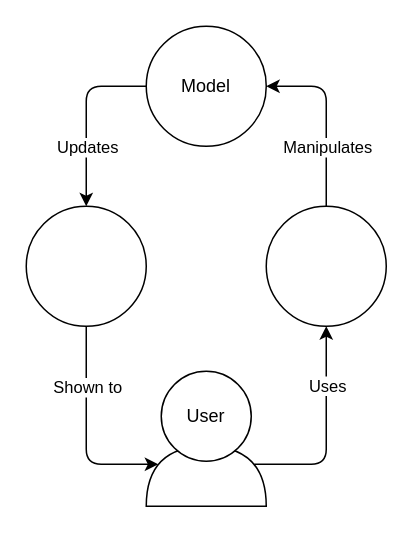
Some shapes in this 413 by 533 pixel diagram are drawn without their labels. The shapes that lost their labels are listed below. From the top down, each one's box as (x1, y1, x2, y2) in pixels, then its label:
(25, 205, 146, 326): View
(265, 205, 386, 326): Controller
